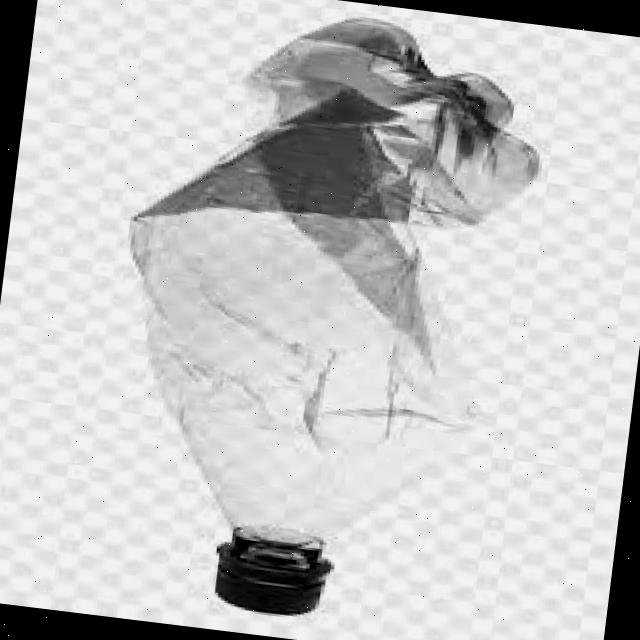bottle: (82, 0, 570, 640)
cap: (197, 531, 336, 628)
